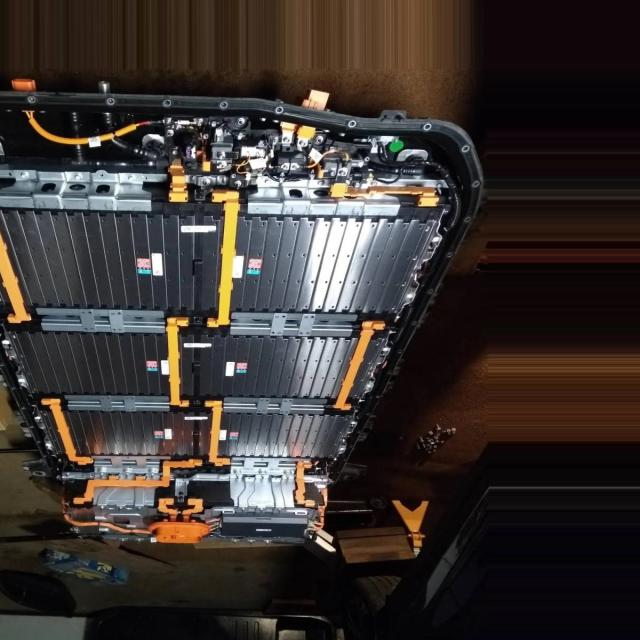Aluminum-frame: (0, 184, 148, 211), (38, 307, 164, 334), (231, 313, 358, 337), (249, 196, 398, 215), (222, 397, 328, 415), (66, 396, 169, 411), (230, 483, 294, 504), (231, 458, 296, 474), (94, 456, 158, 472), (94, 489, 155, 505)
Battery Module: (3, 214, 219, 308), (234, 220, 436, 313), (186, 338, 356, 396), (17, 335, 168, 393), (68, 412, 207, 456), (228, 415, 353, 460)
Bolt: (212, 150, 226, 171), (121, 174, 141, 184), (329, 168, 351, 177), (73, 172, 86, 184), (16, 172, 33, 180), (259, 178, 273, 187), (297, 138, 308, 149), (367, 179, 380, 188), (434, 181, 445, 189), (282, 137, 292, 144), (317, 180, 326, 187)
Bus-bar: (74, 459, 202, 504), (333, 321, 385, 410), (208, 192, 241, 326), (42, 399, 92, 464), (0, 239, 30, 324), (332, 185, 437, 206), (203, 400, 231, 466), (169, 317, 189, 407), (295, 462, 314, 506), (169, 163, 187, 203)
Nut: (231, 118, 250, 128), (114, 505, 130, 514), (164, 130, 176, 140), (133, 537, 146, 546), (114, 538, 128, 546), (199, 177, 210, 187), (230, 537, 240, 546), (264, 539, 275, 547), (136, 505, 145, 514), (247, 539, 257, 547), (276, 509, 286, 517), (238, 507, 248, 515), (314, 137, 325, 144), (257, 507, 265, 516), (95, 507, 107, 512), (259, 474, 267, 481), (98, 472, 106, 478), (122, 472, 130, 478), (318, 476, 326, 482), (234, 474, 241, 480), (148, 473, 156, 478), (286, 475, 291, 483)
Screw: (231, 179, 245, 192), (174, 491, 187, 501)
